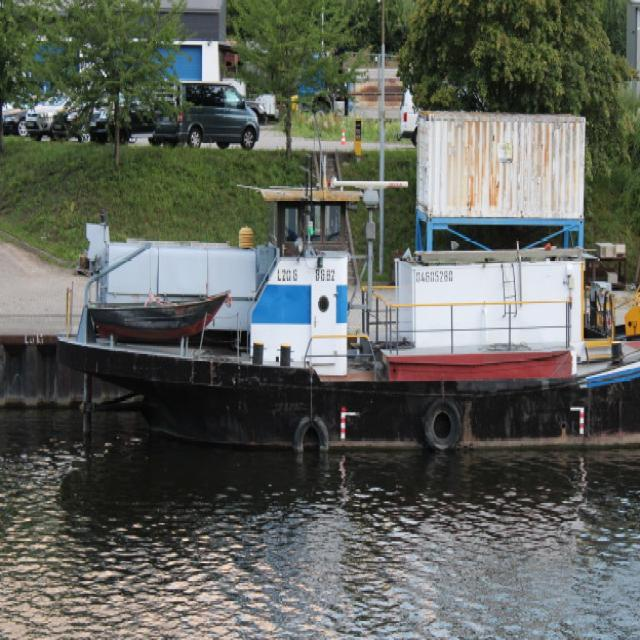tugboat: (43, 170, 640, 475)
